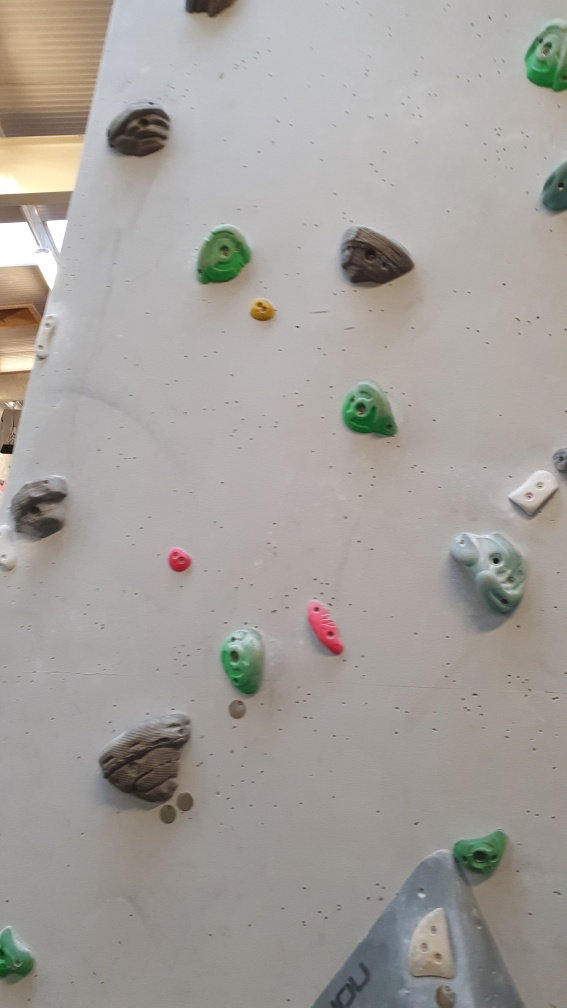Crimp: (405, 902, 458, 985), (509, 469, 559, 521), (306, 599, 344, 661), (35, 313, 59, 367)
Hand Start: (432, 978, 459, 1007), (156, 802, 180, 829), (222, 699, 251, 720), (178, 789, 197, 813)
Jug: (101, 711, 198, 803), (456, 531, 528, 616), (337, 220, 417, 290), (6, 469, 76, 538), (102, 99, 171, 163), (195, 220, 254, 292), (340, 377, 404, 439), (220, 625, 271, 699), (452, 821, 509, 886)
Pinch: (166, 545, 195, 576), (250, 295, 277, 324)
